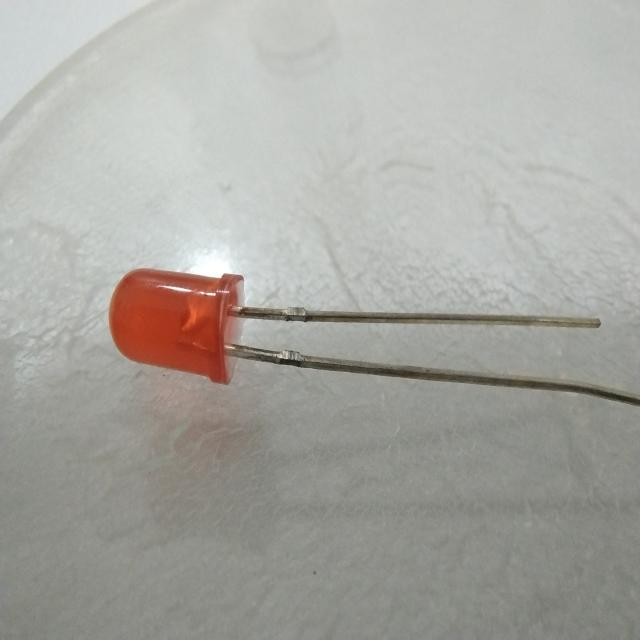red_led: (95, 258, 258, 398)
